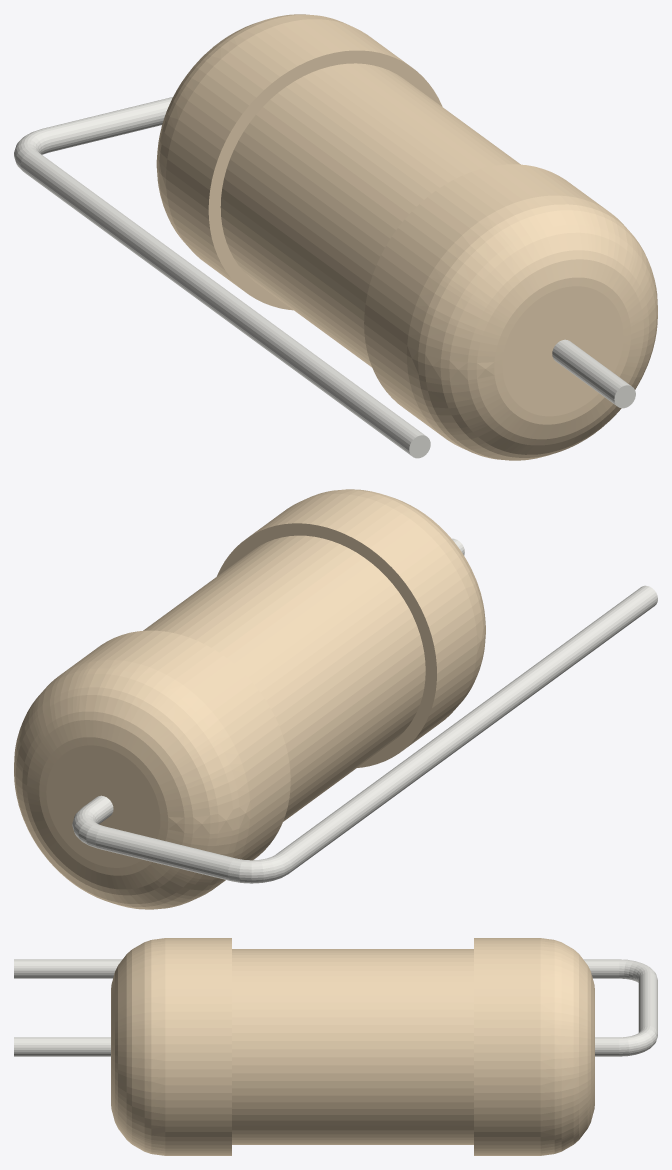
File: R_Axial_DIN0922_L20.0mm_D9.0mm_P7.62mm_Vertical.glb
3 renders of one model, top to bottom at view 1: azimuth 30°, elevation 25°; view 2: azimuth 150°, elevation 25°; view 3: azimuth 270°, elevation 25°, orthographic. The views are drawn at different scales.
Visible parts, largest first — view 1: Shape_IndexedFaceSet.004, Shape_IndexedFaceSet.001, Shape_IndexedFaceSet.008, Shape_IndexedFaceSet, Shape_IndexedFaceSet.015, Shape_IndexedFaceSet.003, Shape_IndexedFaceSet.006, Shape_IndexedFaceSet.009, Shape_IndexedFaceSet.013, Shape_IndexedFaceSet.005, Shape_IndexedFaceSet.014; view 2: Shape_IndexedFaceSet.004, Shape_IndexedFaceSet.009, Shape_IndexedFaceSet, Shape_IndexedFaceSet.008, Shape_IndexedFaceSet.015, Shape_IndexedFaceSet.010, Shape_IndexedFaceSet.002, Shape_IndexedFaceSet.013, Shape_IndexedFaceSet.001, Shape_IndexedFaceSet.014, Shape_IndexedFaceSet.012; view 3: Shape_IndexedFaceSet.004, Shape_IndexedFaceSet, Shape_IndexedFaceSet.008, Shape_IndexedFaceSet.001, Shape_IndexedFaceSet.009, Shape_IndexedFaceSet.015, Shape_IndexedFaceSet.005, Shape_IndexedFaceSet.013, Shape_IndexedFaceSet.012, Shape_IndexedFaceSet.014, Shape_IndexedFaceSet.011.
Boxes of the visible parts, box(x1,y1,x2,y2) form: Shape_IndexedFaceSet.004: box(220, 63, 520, 367); Shape_IndexedFaceSet.001: box(406, 195, 657, 460); Shape_IndexedFaceSet.008: box(166, 19, 408, 289); Shape_IndexedFaceSet: box(364, 164, 605, 434); Shape_IndexedFaceSet.015: box(20, 151, 426, 455); Shape_IndexedFaceSet.003: box(502, 286, 623, 416); Shape_IndexedFaceSet.006: box(208, 50, 442, 310); Shape_IndexedFaceSet.009: box(156, 14, 349, 245); Shape_IndexedFaceSet.013: box(43, 97, 172, 152); Shape_IndexedFaceSet.005: box(552, 339, 630, 405); Shape_IndexedFaceSet.014: box(14, 128, 51, 169); Shape_IndexedFaceSet.004: box(143, 535, 425, 821); Shape_IndexedFaceSet.009: box(14, 660, 250, 909); Shape_IndexedFaceSet: box(249, 494, 477, 750); Shape_IndexedFaceSet.008: box(62, 630, 290, 884); Shape_IndexedFaceSet.015: box(277, 585, 657, 872); Shape_IndexedFaceSet.010: box(46, 745, 160, 867); Shape_IndexedFaceSet.002: box(217, 523, 436, 767); Shape_IndexedFaceSet.013: box(95, 826, 236, 880); Shape_IndexedFaceSet.001: box(304, 489, 485, 709); Shape_IndexedFaceSet.014: box(228, 853, 291, 883); Shape_IndexedFaceSet.012: box(72, 806, 103, 848); Shape_IndexedFaceSet.004: box(232, 949, 473, 1144); Shape_IndexedFaceSet: box(165, 938, 231, 1155); Shape_IndexedFaceSet.008: box(474, 938, 540, 1155); Shape_IndexedFaceSet.001: box(111, 938, 165, 1155); Shape_IndexedFaceSet.009: box(540, 938, 594, 1155); Shape_IndexedFaceSet.015: box(14, 959, 619, 978); Shape_IndexedFaceSet.005: box(14, 1037, 110, 1056); Shape_IndexedFaceSet.013: box(638, 972, 657, 1032); Shape_IndexedFaceSet.012: box(619, 1026, 657, 1056); Shape_IndexedFaceSet.014: box(619, 959, 656, 982); Shape_IndexedFaceSet.011: box(595, 1037, 619, 1056).
Bounding box in the file's own units: 4.93 × 3.54 × 10.47.
